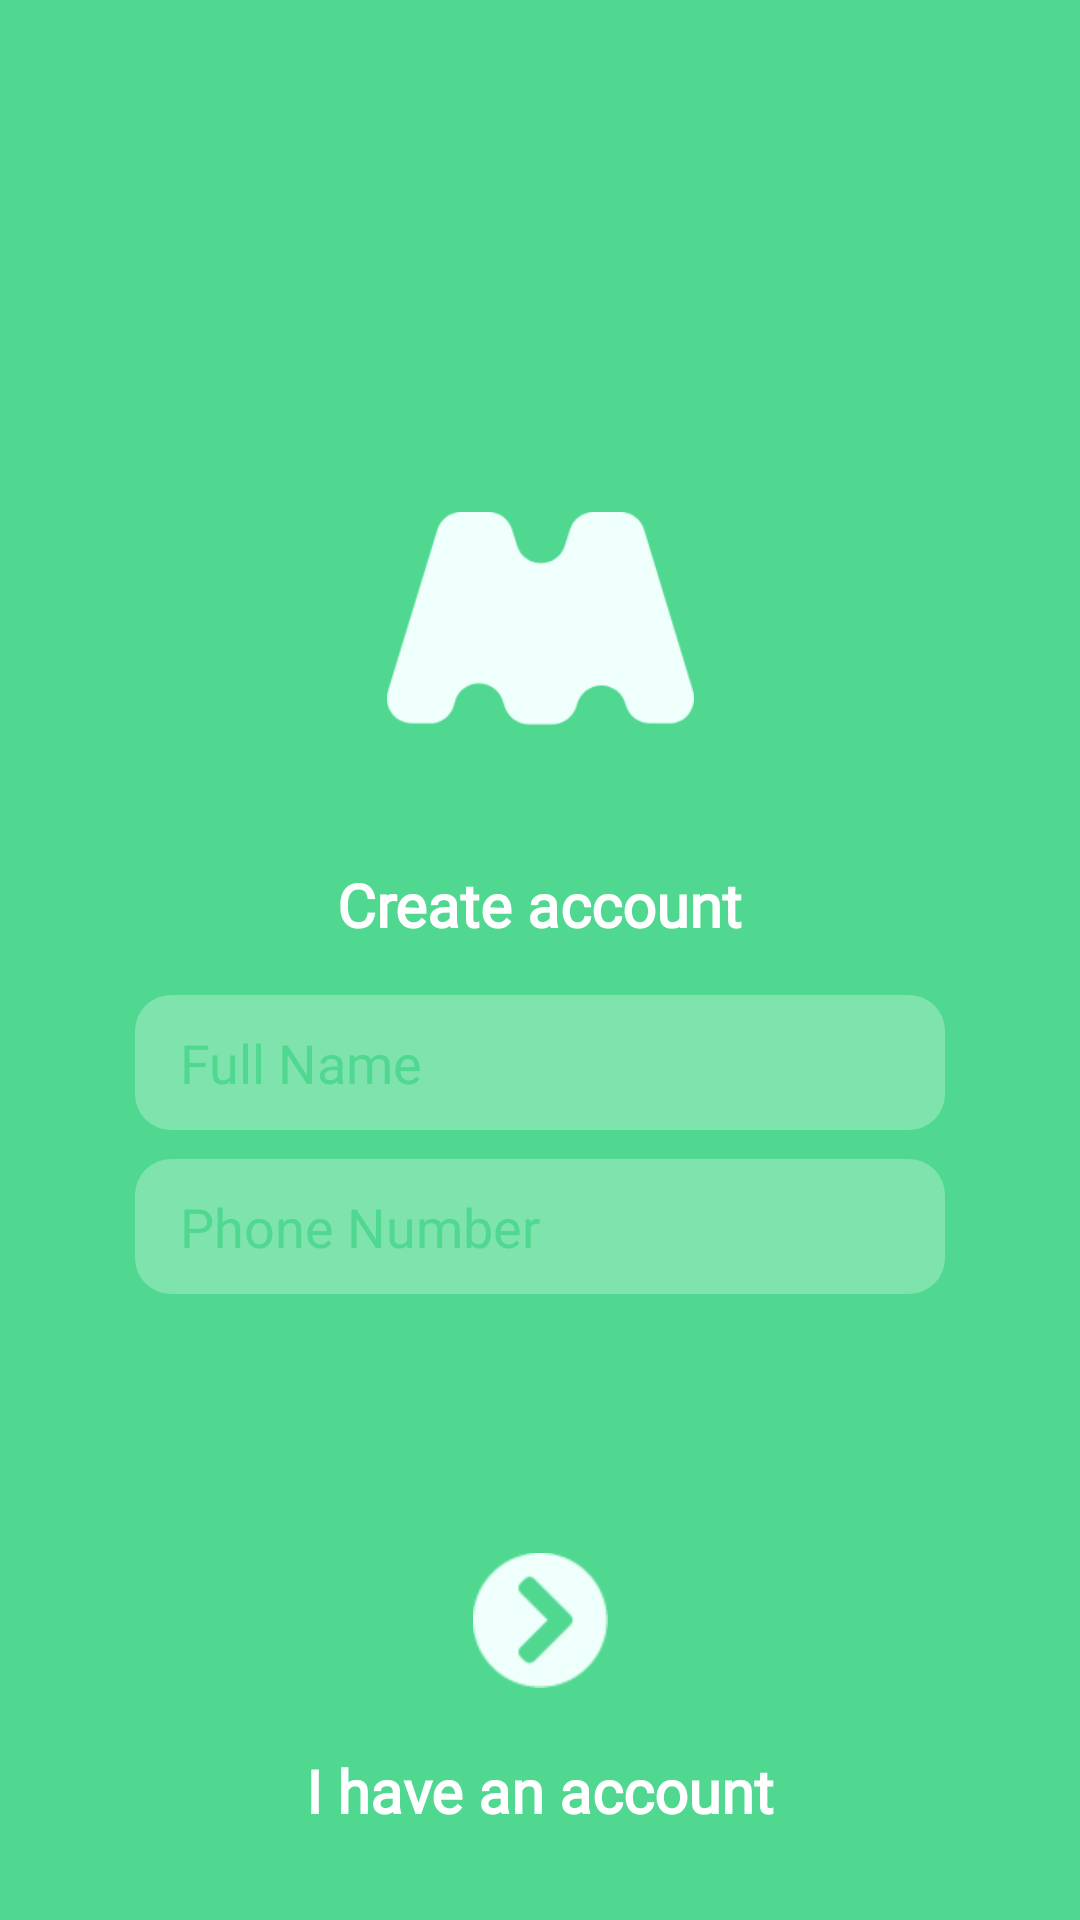

Icon click points for this 1080 x 1920 phone screenshot, format (x=x, y=y):
next: (x=540, y=1620)
